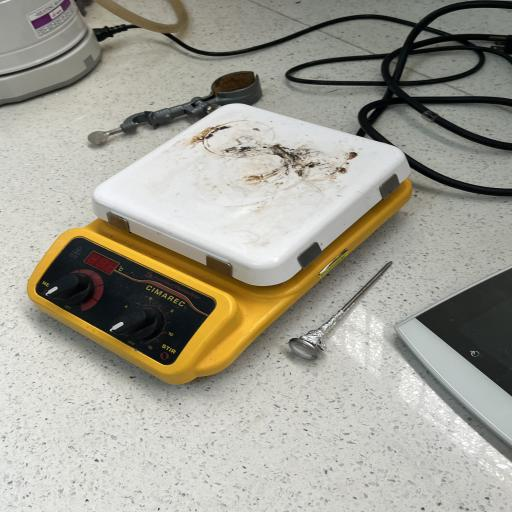Plancha_Agitacion_Cimarec: (20, 100, 420, 391)
